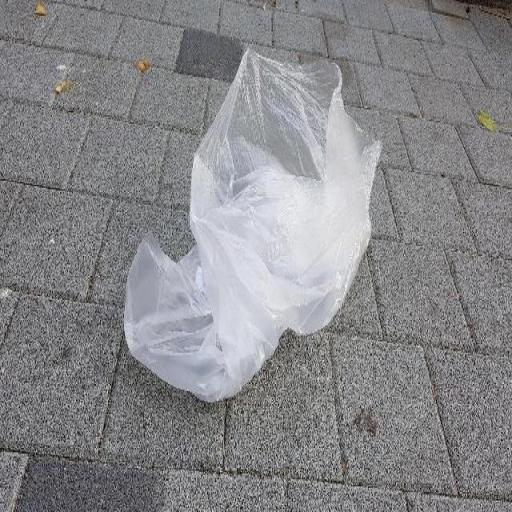plastic-bag: (122, 46, 386, 404)
